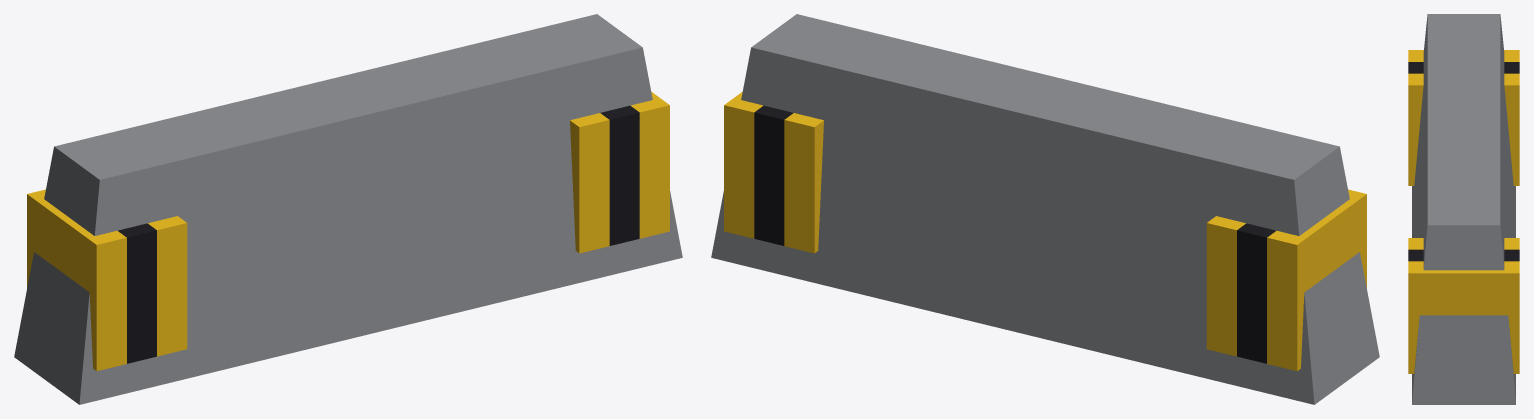
File: env_r11_hazard_barrier.glb
3 renders of one model, left to right at view 1: azimuth 30°, elevation 25°; view 2: azimuth 150°, elevation 25°; view 3: azimuth 270°, elevation 25°, orthographic. The views are drawn at different scales.
Visible parts, largest first — view 1: env_r11_hazard_barrier; view 2: env_r11_hazard_barrier; view 3: env_r11_hazard_barrier.
Part boxes in pixels (box(x1,y1,x2,y2)): env_r11_hazard_barrier: box(14, 14, 682, 404); env_r11_hazard_barrier: box(711, 14, 1379, 404); env_r11_hazard_barrier: box(1408, 14, 1519, 404).
Bounding box in the file's own units: 3 × 1 × 0.6.
Materials: 1 (1 with a texture image).
